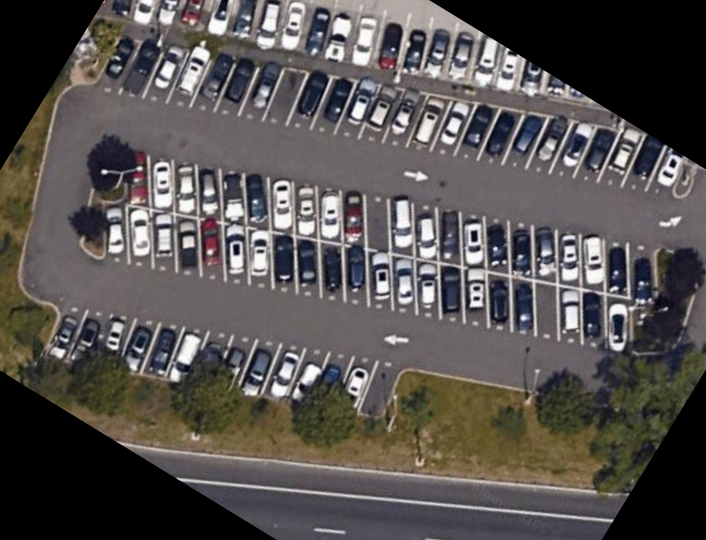parkingspot: (100, 140, 660, 360), (86, 31, 688, 200), (94, 0, 610, 112), (37, 303, 408, 421)
